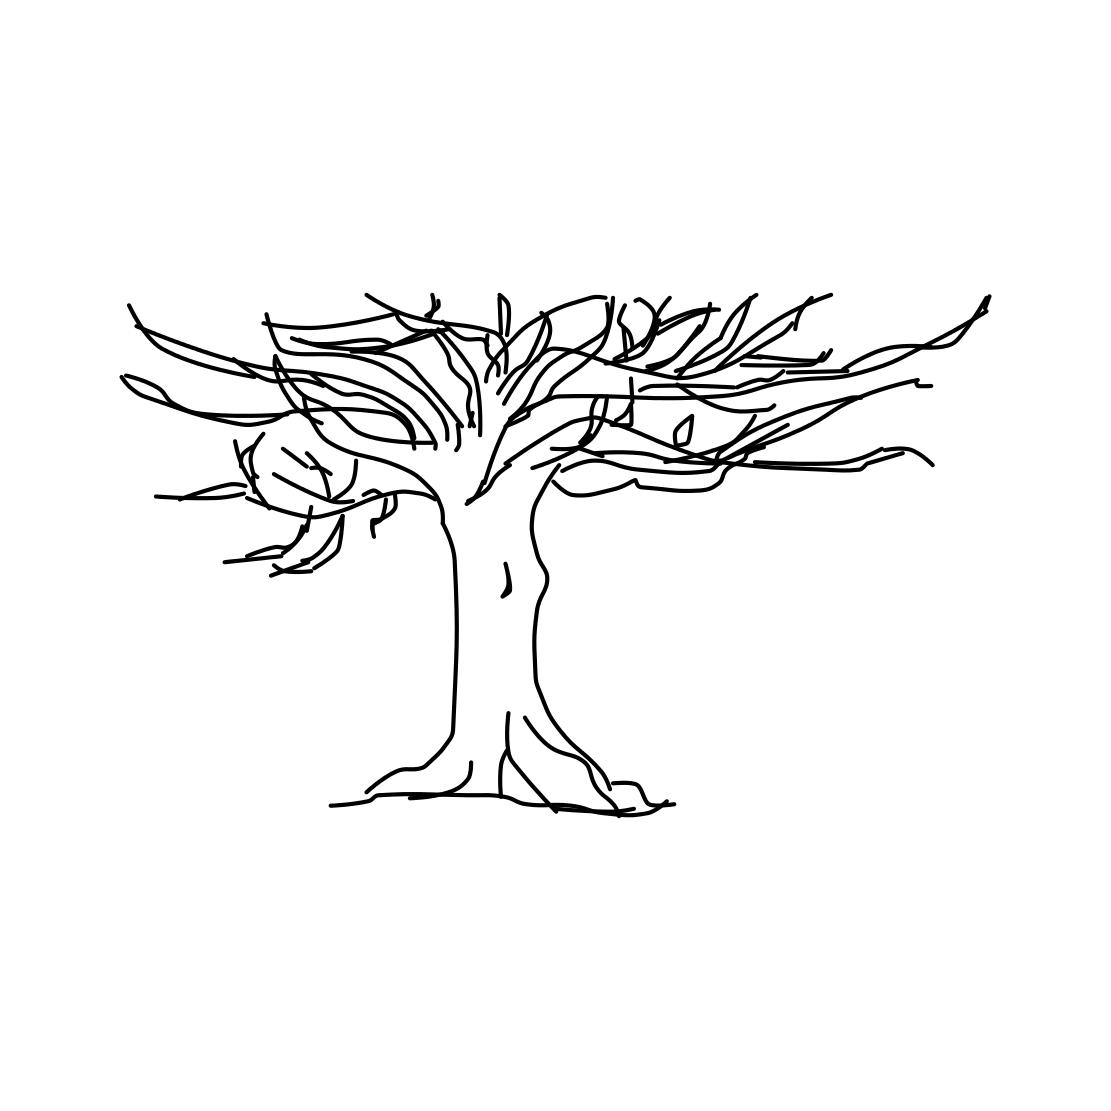Tree: (86, 195, 1004, 859)
